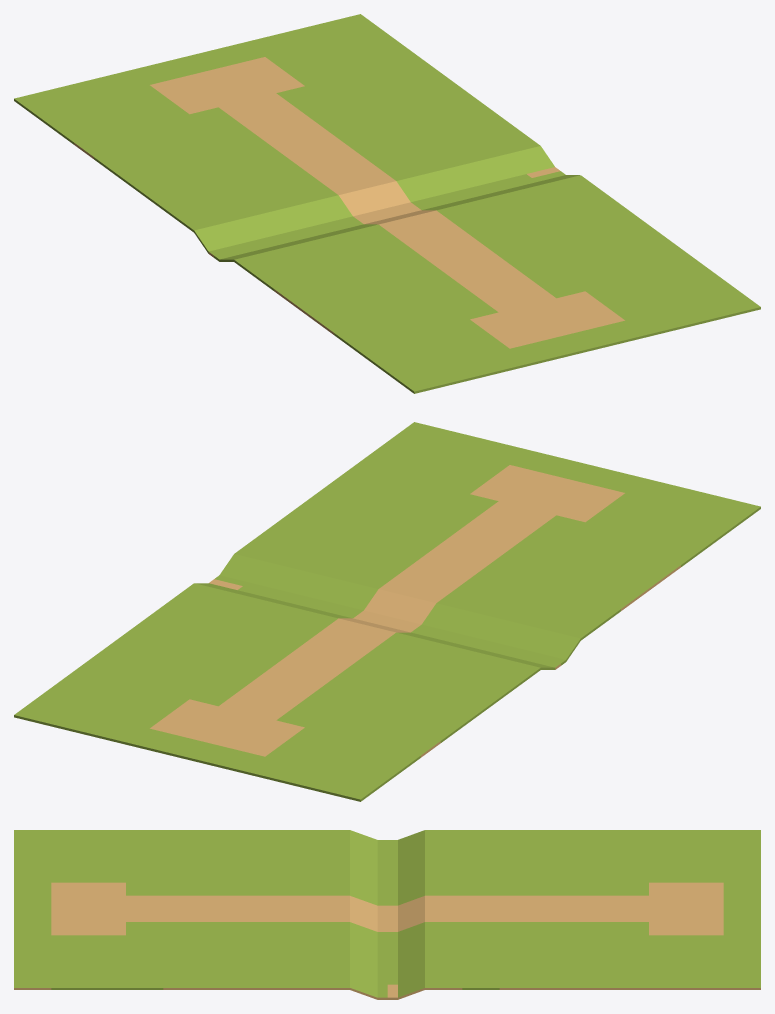
The model's file is Ground.fbx.
The picture shows the model from 3 angles, top to bottom: view 1: azimuth 30°, elevation 25°; view 2: azimuth 150°, elevation 25°; view 3: azimuth 270°, elevation 25°; orthographic projection. The views are drawn at different scales.
Visible parts, largest first — view 1: Cylinder.003; view 2: Cylinder.003; view 3: Cylinder.003.
Part boxes in pixels (box(x1,y1,x2,y2)): Cylinder.003: box(14, 14, 760, 393); Cylinder.003: box(14, 422, 760, 801); Cylinder.003: box(14, 830, 760, 999).
Bounding box in the file's own units: 5000 × 178 × 10000.
